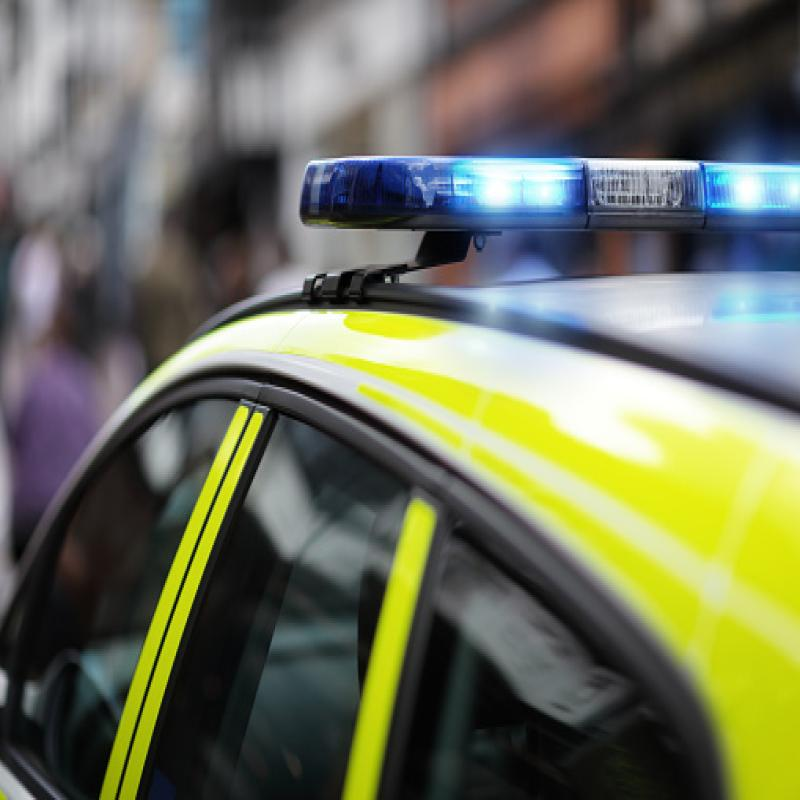AmbulanceSiren: (279, 116, 800, 267)
